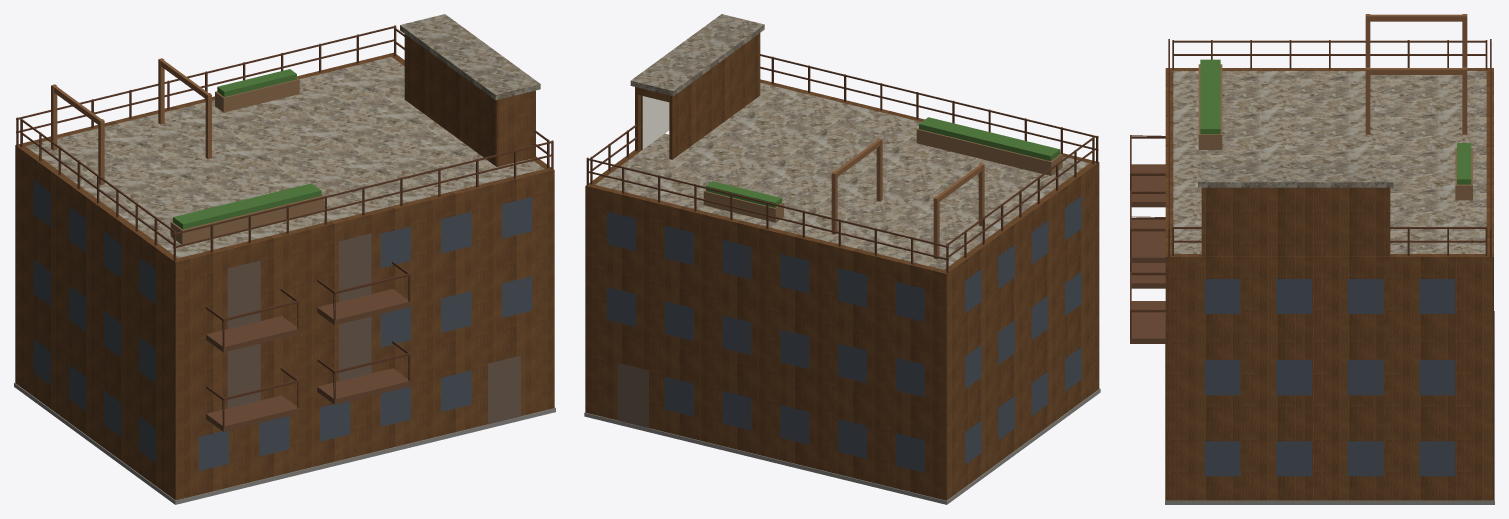
File: rw-river-flats.zfix-v22.lod1.glb
The picture shows the model from 3 angles, left to right: view 1: azimuth 30°, elevation 25°; view 2: azimuth 150°, elevation 25°; view 3: azimuth 270°, elevation 25°; orthographic projection. The views are drawn at different scales.
Parts seen in each view (by area): view 1: rw-river-flats; view 2: rw-river-flats; view 3: rw-river-flats.
Part boxes in pixels (<box>): rw-river-flats: <box>14,14,555,504</box>; rw-river-flats: <box>584,14,1100,504</box>; rw-river-flats: <box>1130,14,1494,504</box>.
Bounding box in the file's own units: 15.1 × 11.95 × 12.26.
Materials: 3 (2 with a texture image).
